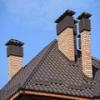chimneys: (77, 12, 93, 79)
